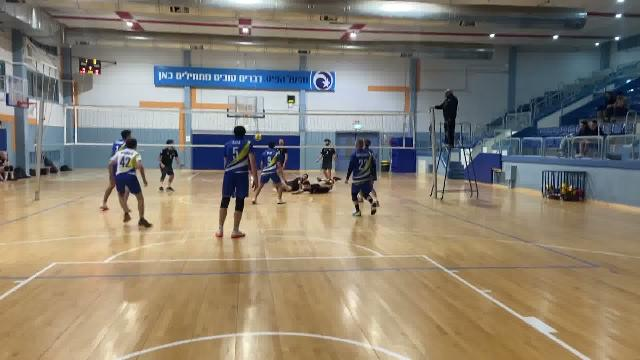ball: (253, 129, 265, 141)
